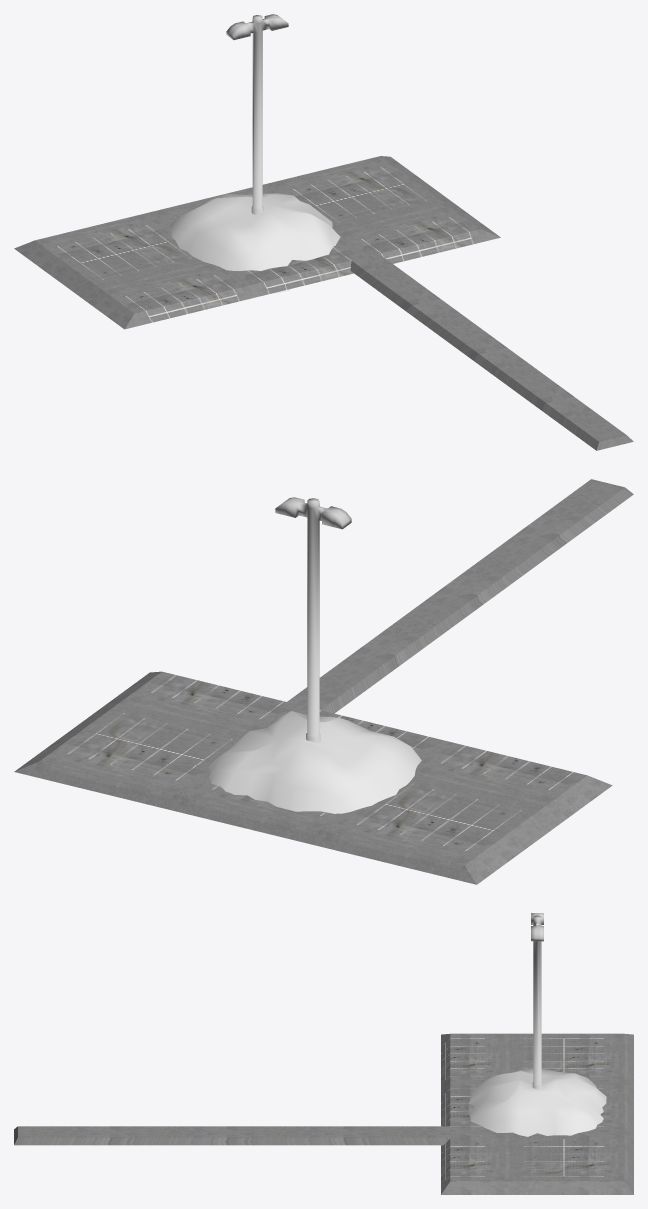
The model's file is parkingLot.fbx.
3 renders of one model, top to bottom at view 1: azimuth 30°, elevation 25°; view 2: azimuth 150°, elevation 25°; view 3: azimuth 270°, elevation 25°, orthographic. The views are drawn at different scales.
Visible parts, largest first — view 1: ParkingLotFlat, Road, SnowBank, Lamppost; view 2: ParkingLotFlat, SnowBank, Road, Lamppost; view 3: ParkingLotFlat, Road, SnowBank, Lamppost.
Part boxes in pixels (x1,y1,x2,y2): ParkingLotFlat: (14, 156, 500, 329); Road: (350, 254, 633, 450); SnowBank: (170, 193, 340, 293); Lamppost: (226, 14, 288, 214); ParkingLotFlat: (14, 671, 612, 884); SnowBank: (208, 711, 421, 820); Road: (287, 479, 633, 713); Lamppost: (275, 497, 351, 743); ParkingLotFlat: (441, 1033, 633, 1194); Road: (14, 1126, 450, 1145); SnowBank: (468, 1068, 606, 1136); Lamppost: (531, 913, 543, 1089).
Size of the model in its own units: 4.35 by 2.58 by 7.11.
